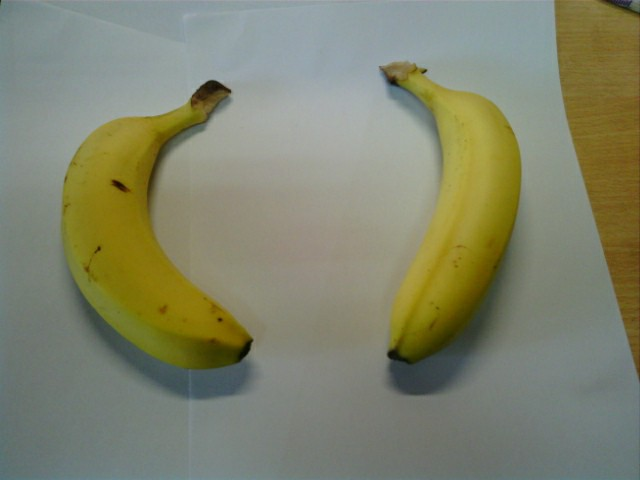fresh_banana: (373, 59, 524, 368)
normal_banana: (62, 78, 254, 368)
